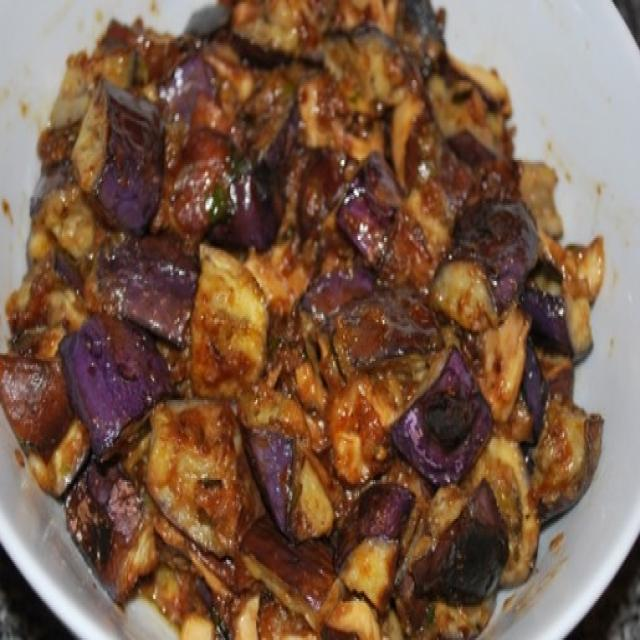鸡蛋料理: (14, 11, 618, 618)
